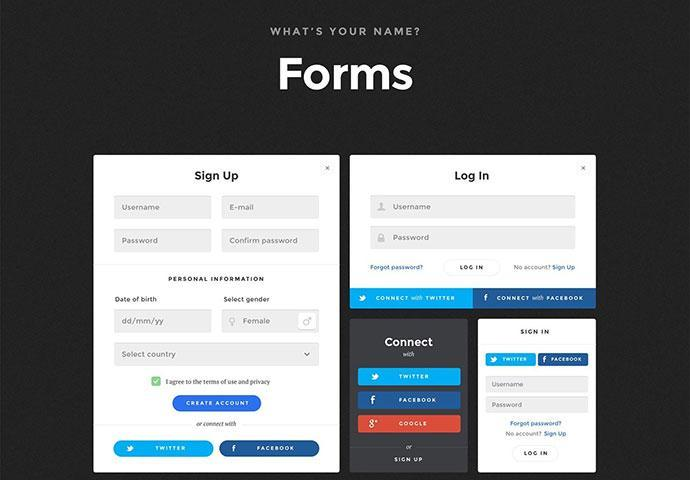button: (358, 392, 461, 411), (359, 416, 462, 434), (359, 370, 462, 387), (113, 441, 215, 458), (219, 440, 321, 457), (173, 395, 262, 414), (442, 258, 505, 279), (515, 445, 560, 464), (486, 354, 537, 368), (540, 354, 589, 367)
checkbox: (153, 378, 162, 387)
dropdown: (115, 343, 318, 366)
input: (372, 225, 576, 253), (370, 196, 576, 218), (117, 310, 214, 335), (114, 229, 212, 253), (223, 196, 320, 220), (223, 310, 319, 334), (222, 230, 320, 253), (115, 197, 212, 219), (487, 377, 588, 393), (487, 397, 588, 413)
label: (166, 379, 273, 388), (224, 297, 272, 306), (115, 297, 158, 305)
